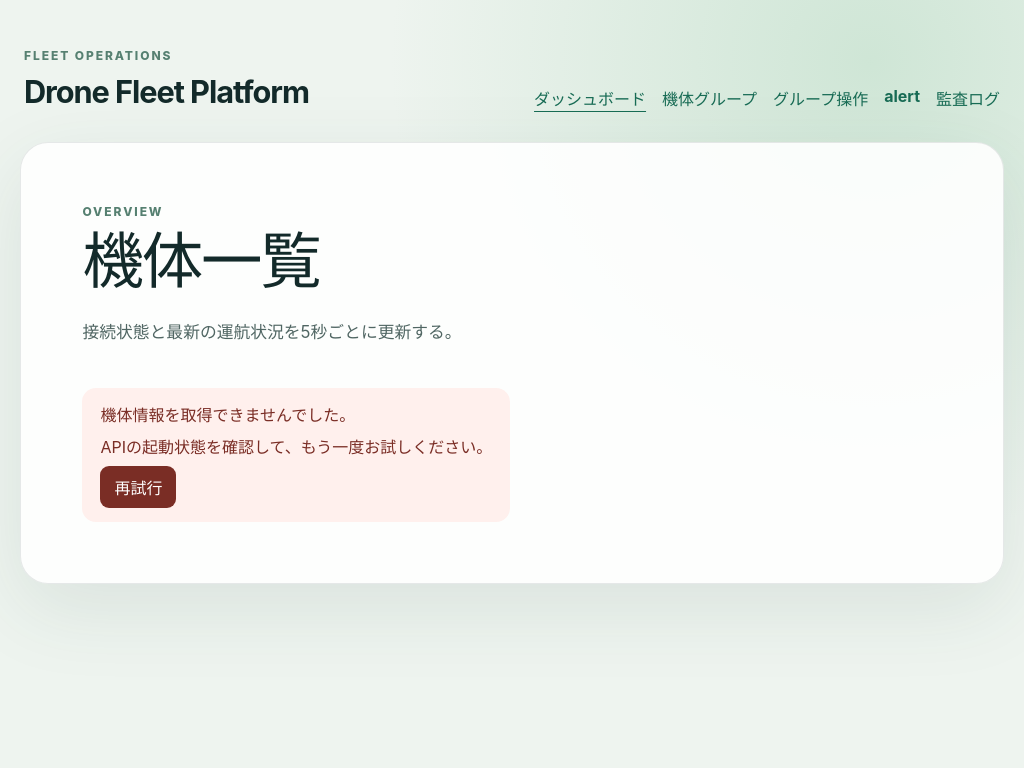
Test: DashboardApp › shows an error and retries the request
Expected: the message shows "機体情報を取得できませんでした。", [100,405,355,425]
Click the button "再試行". click: point(138, 487)
box: [100,466,176,508]
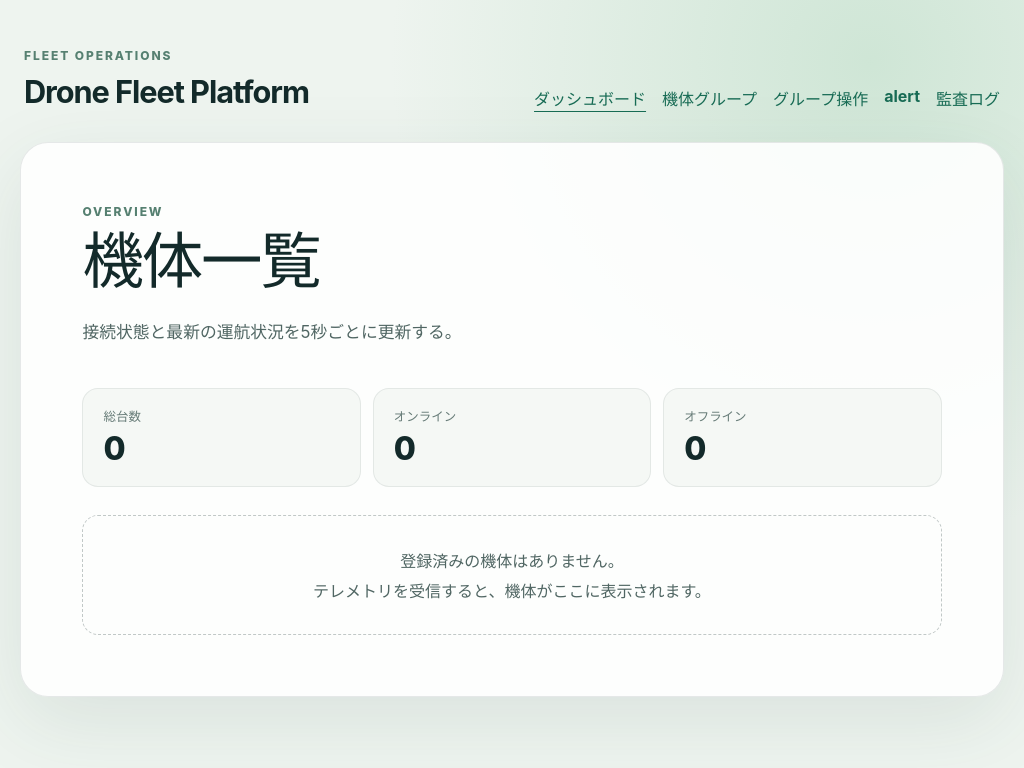
Expected: the text "登録済みの機体はありません。" is shown, [400,551,624,571]
